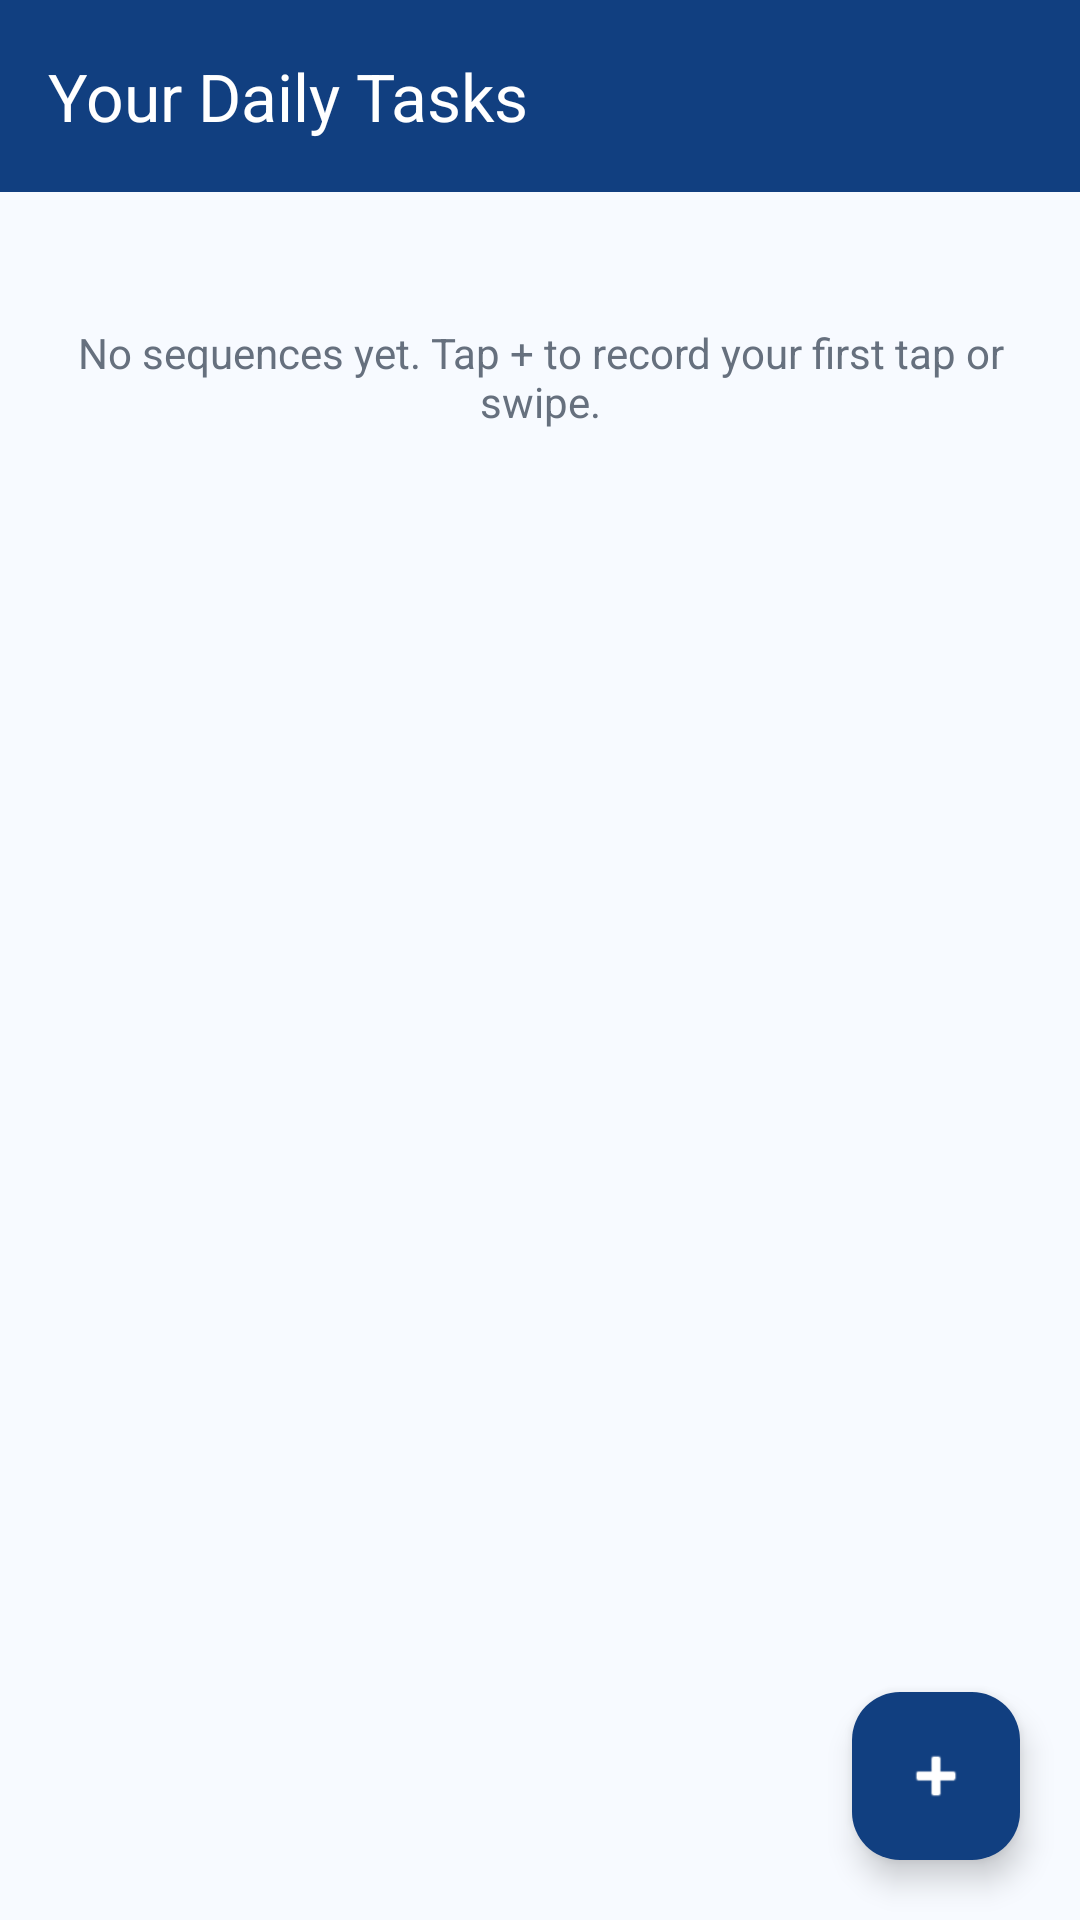

Icons on this 1080*1920 Android screen, each with its box as (x1=x1, y1=y1, x2=x2, y2=y2):
New Sequence: (x1=852, y1=1692, x2=1020, y2=1860)
